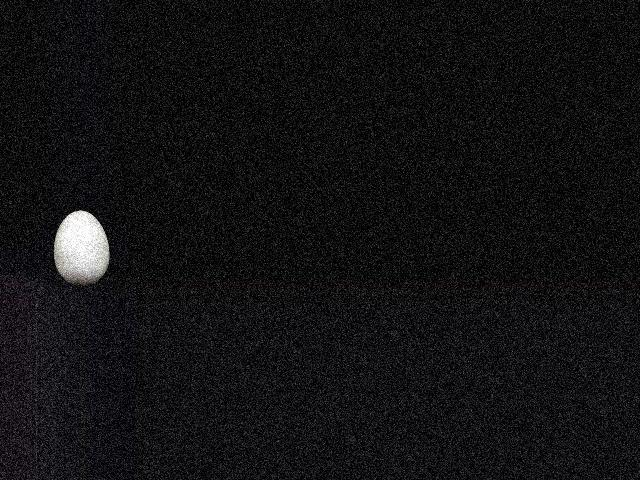egg: (54, 211, 108, 287)
